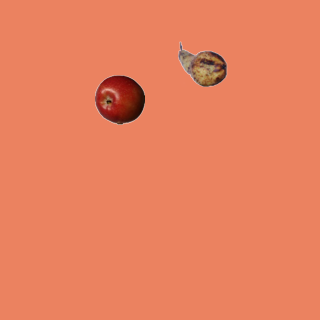Apple Braeburn: (94, 74, 144, 124)
Pear Abate: (177, 39, 227, 89)
